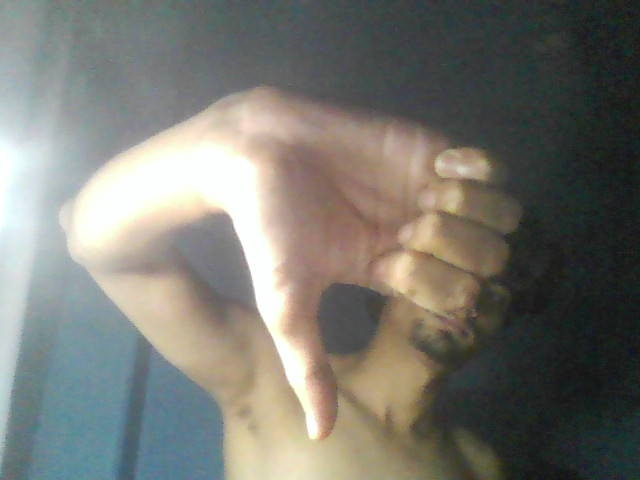ThumbsDown: (222, 78, 520, 445)
